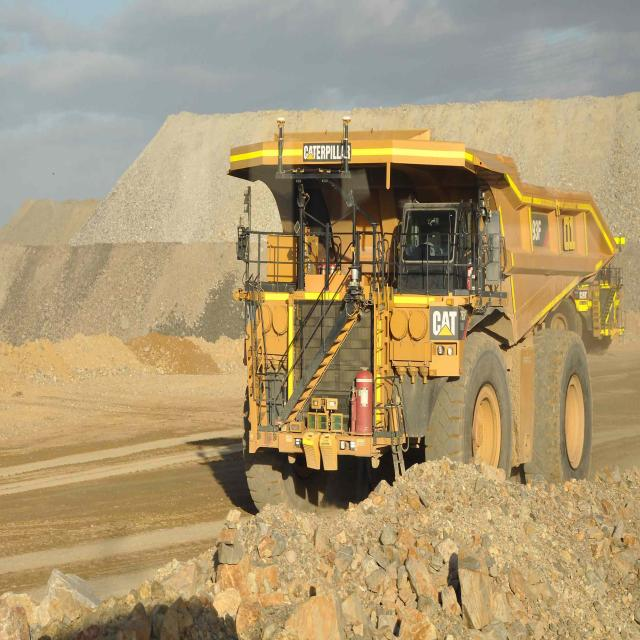dump_truck: (220, 112, 612, 520)
